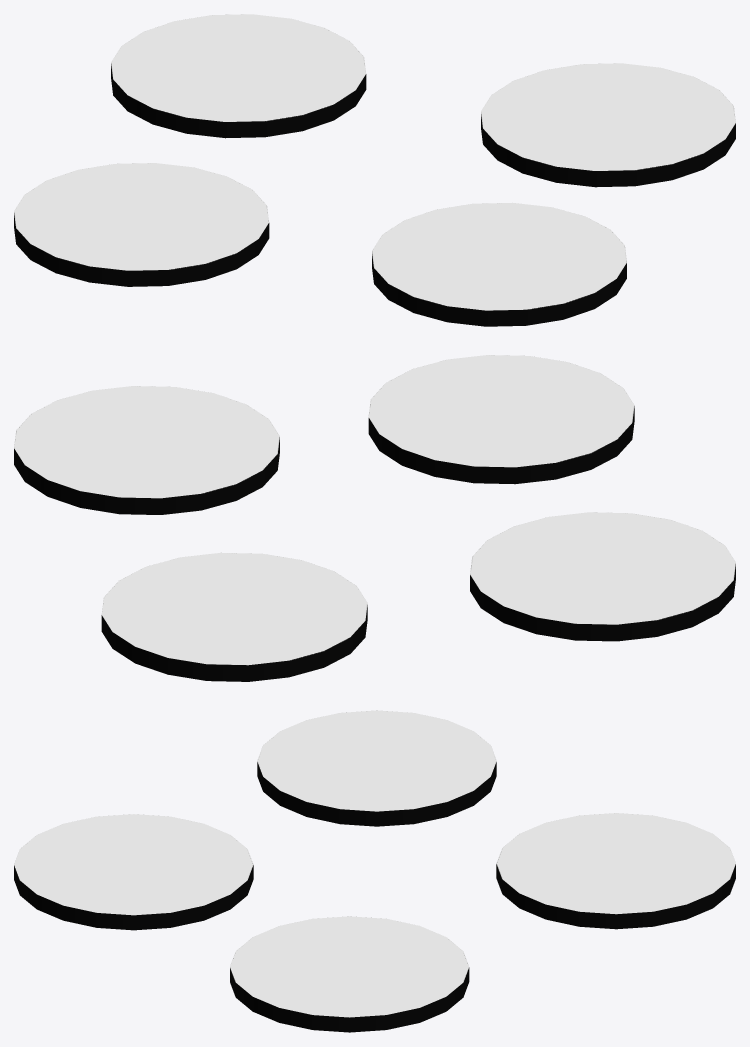
File: basexicarajunto.obj
3 renders of one model, top to bottom at view 1: azimuth 30°, elevation 25°; view 2: azimuth 150°, elevation 25°; view 3: azimuth 270°, elevation 25°, orthographic. The views are drawn at different scales.
Parts seen in each view (by area): view 1: basexicarajunto:pCylinder28; view 2: basexicarajunto:pCylinder28; view 3: basexicarajunto:pCylinder28.
Part boxes in pixels (left/top/right/bottom): basexicarajunto:pCylinder28: left=14, top=14, right=735, bottom=326; basexicarajunto:pCylinder28: left=14, top=355, right=735, bottom=681; basexicarajunto:pCylinder28: left=14, top=710, right=735, bottom=1032.
Size of the model in its own units: 3.08 by 0.0706 by 3.05.
Materials: 4 (4 with a texture image).
